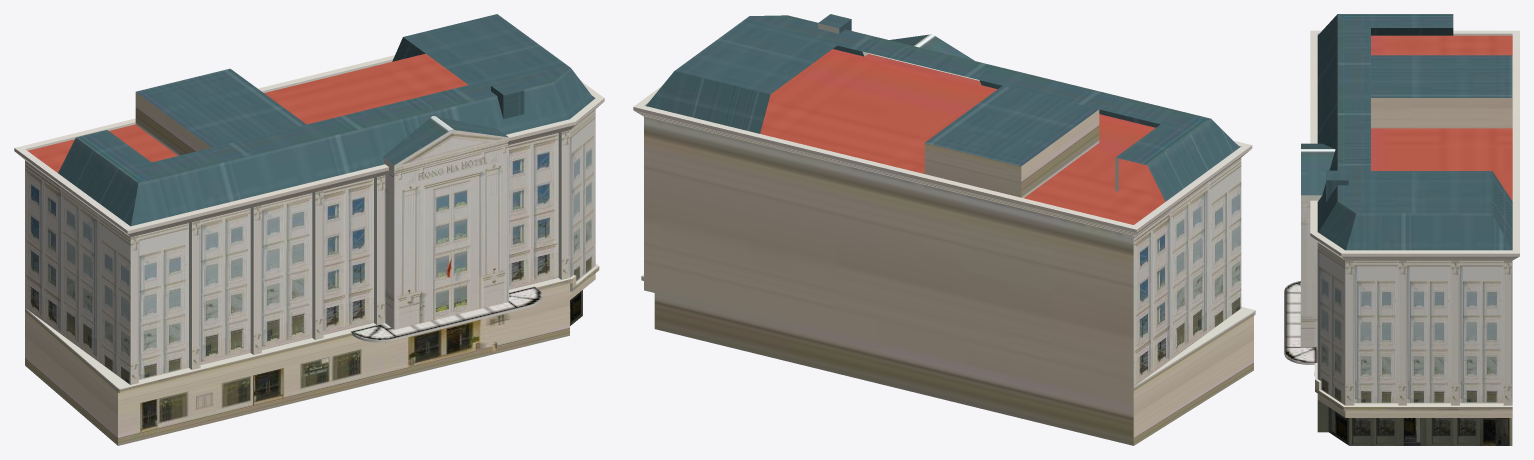
The picture shows the model from 3 angles, left to right: view 1: azimuth 30°, elevation 25°; view 2: azimuth 150°, elevation 25°; view 3: azimuth 270°, elevation 25°; orthographic projection. The views are drawn at different scales.
Parts seen in each view (by area): view 1: HN173_Hong_Ha_Hotel; view 2: HN173_Hong_Ha_Hotel; view 3: HN173_Hong_Ha_Hotel.
Boxes of the visible parts, x1,y1,x2,y2 form: HN173_Hong_Ha_Hotel: (14,14,604,445); HN173_Hong_Ha_Hotel: (633,14,1255,445); HN173_Hong_Ha_Hotel: (1284,14,1519,445).
Size of the model in its own units: 47.85 by 23.12 by 21.15.
1 material, 1 textured.
